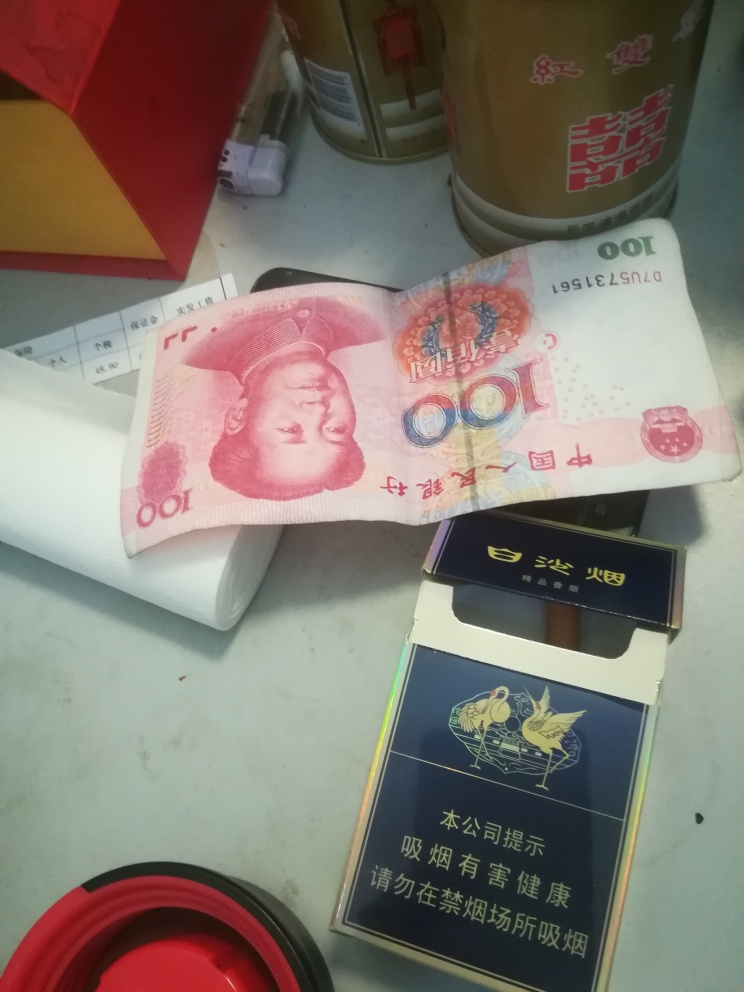rmb: (117, 217, 742, 569)
